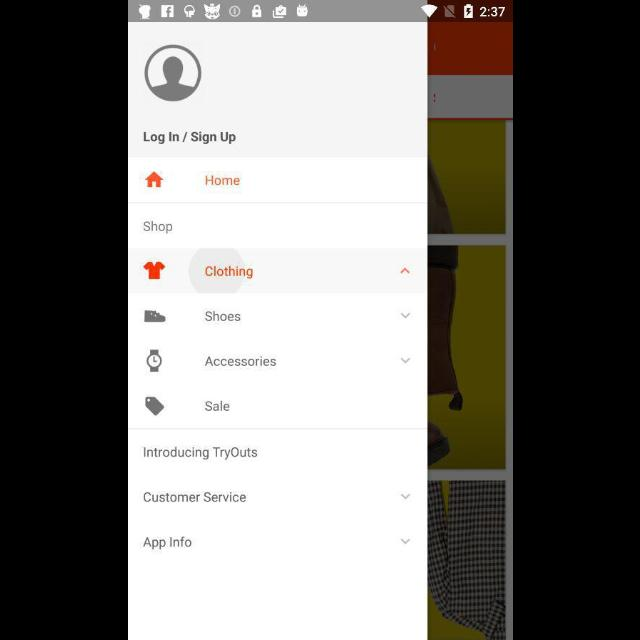icon: (144, 44, 202, 102), (144, 398, 164, 417), (146, 350, 162, 372), (144, 172, 164, 188), (400, 312, 410, 320), (399, 538, 411, 544), (400, 494, 410, 501), (400, 358, 410, 364), (399, 268, 409, 274)
image: (143, 262, 165, 280), (143, 310, 165, 322)
panel: (128, 22, 426, 640)
text: (143, 446, 257, 459), (142, 131, 235, 145), (142, 492, 245, 504), (204, 355, 276, 367), (142, 536, 192, 550), (204, 266, 253, 280), (204, 310, 240, 322), (204, 176, 240, 187), (144, 221, 172, 235), (204, 401, 230, 412)
uppertaskbar: (128, 1, 512, 23)
